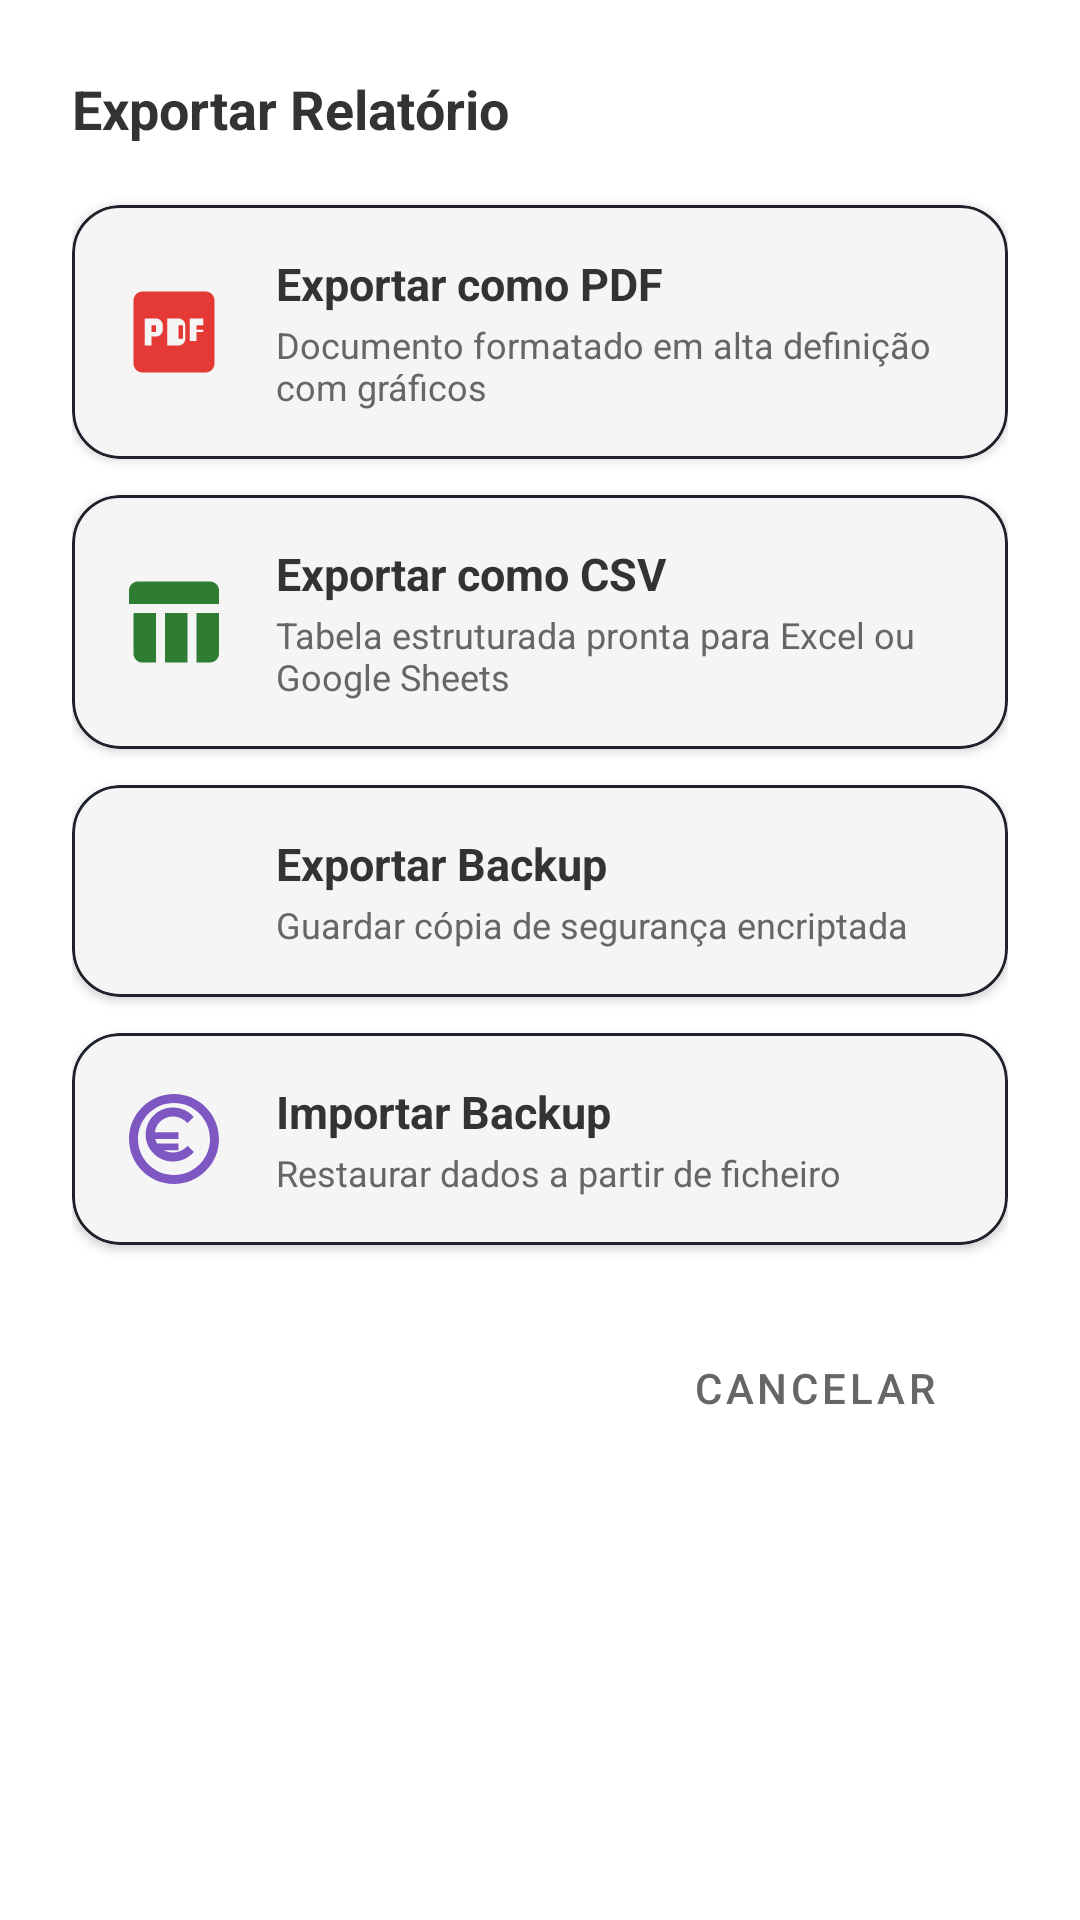

Screen size 1080 × 1920. Icon name, then its center in pixels as (x,y):
poupanca: (174,1139)
table: (174,622)
